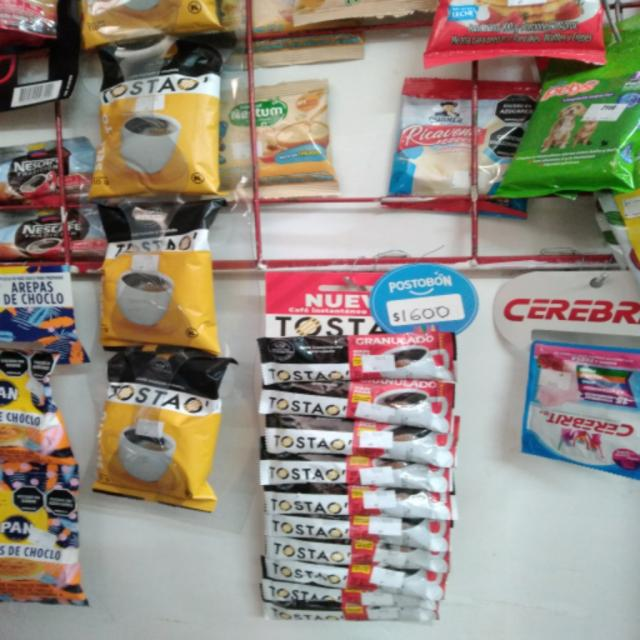Cafe_tostado: (88, 33, 239, 200), (92, 351, 240, 516), (100, 203, 226, 357)
Sobre_cafe: (259, 333, 455, 387), (259, 381, 454, 433), (266, 417, 459, 469), (262, 559, 449, 602), (262, 453, 456, 492), (264, 516, 452, 552), (267, 542, 452, 575), (266, 491, 455, 521), (263, 582, 439, 611), (266, 604, 443, 623)
